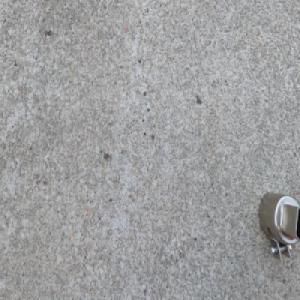MetalPart: (255, 186, 300, 262)
